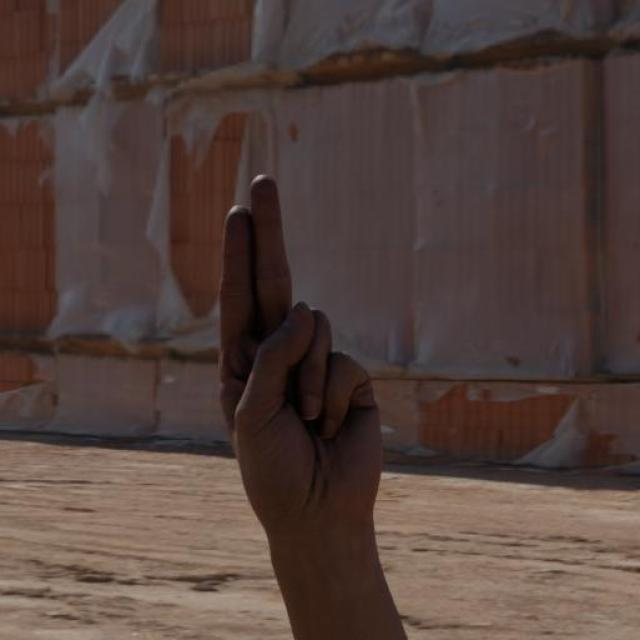U: (212, 165, 391, 547)
